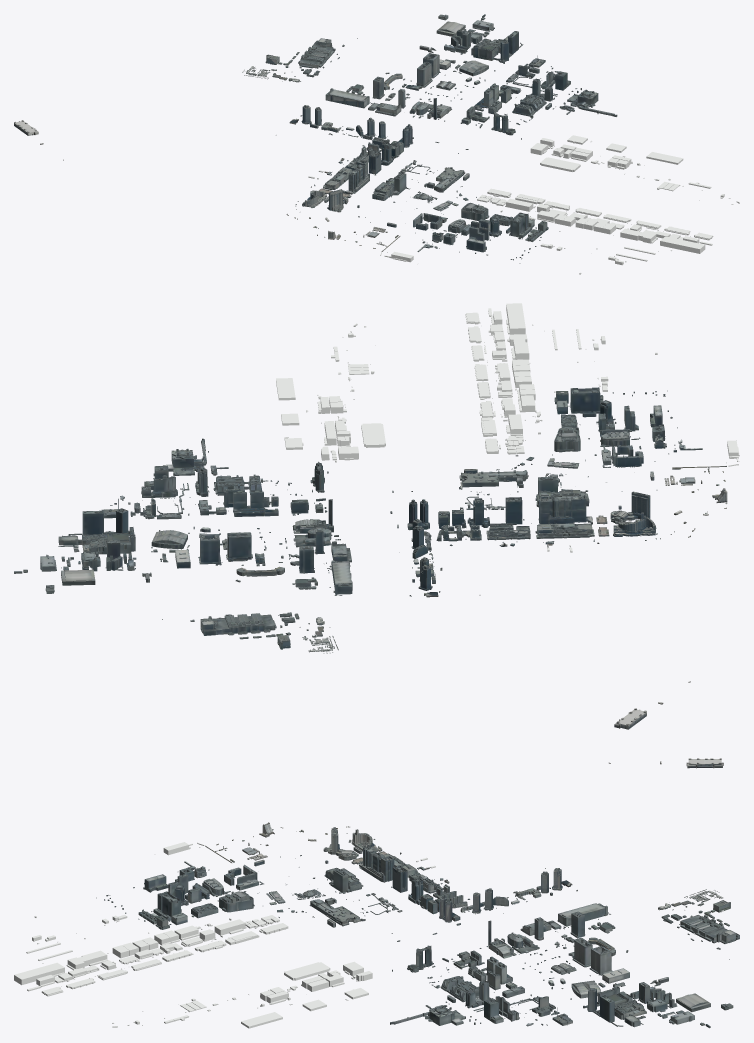
The model's file is tokyo-city-atlas-mobile.glb.
The picture shows the model from 3 angles, top to bottom: view 1: azimuth 30°, elevation 25°; view 2: azimuth 150°, elevation 25°; view 3: azimuth 270°, elevation 25°; orthographic projection. The views are drawn at different scales.
Parts seen in each view (by area): view 1: Odaiba; view 2: Odaiba; view 3: Odaiba.
Boxes of the visible parts, x1=… form: Odaiba: x1=14, y1=14, x2=739, y2=274; Odaiba: x1=14, y1=303, x2=739, y2=729; Odaiba: x1=14, y1=758, x2=739, y2=1028.
Bounding box in the file's own units: 3233 × 148 × 3727.
1 material, 1 textured.
